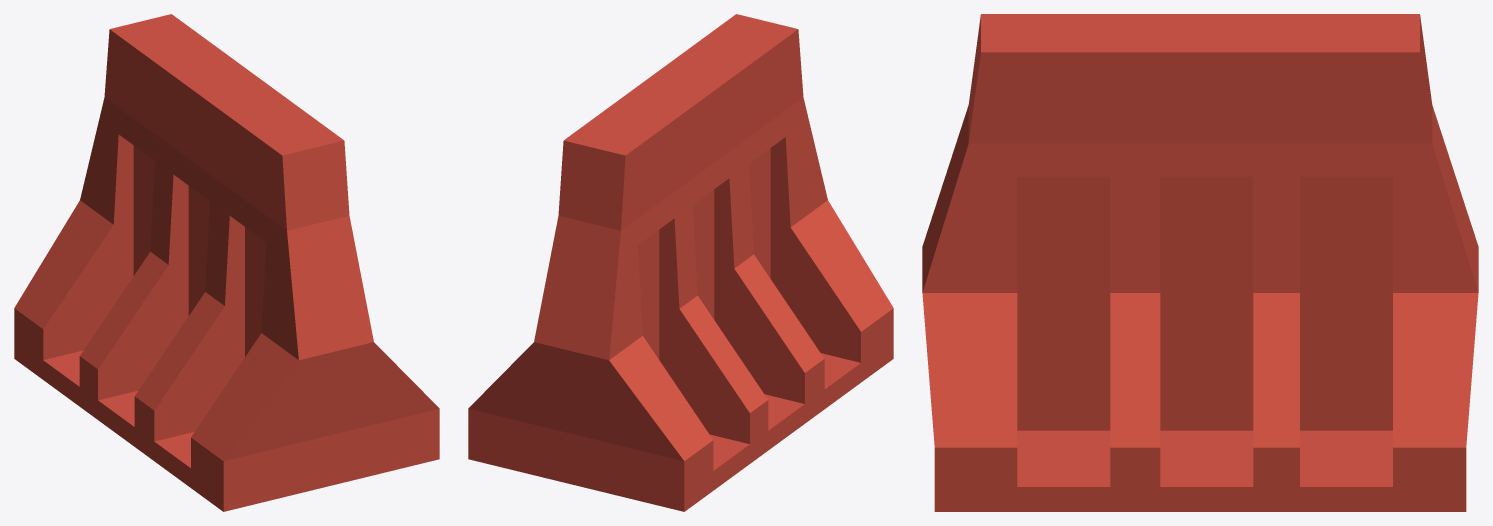
The model's file is traffic_barrier_red_2.fbx.
3 views of the same model, side by side, from view 1: azimuth 30°, elevation 25°; view 2: azimuth 150°, elevation 25°; view 3: azimuth 270°, elevation 25° (orthographic). The views are drawn at different scales.
Visible parts, largest first — view 1: traffic_barrier_red_2; view 2: traffic_barrier_red_2; view 3: traffic_barrier_red_2.
Part boxes in pixels (x1,y1,x2,y2): traffic_barrier_red_2: [14, 14, 439, 511]; traffic_barrier_red_2: [468, 14, 893, 511]; traffic_barrier_red_2: [922, 14, 1478, 511].
Bounding box in the file's own units: 119 × 171 × 209.
